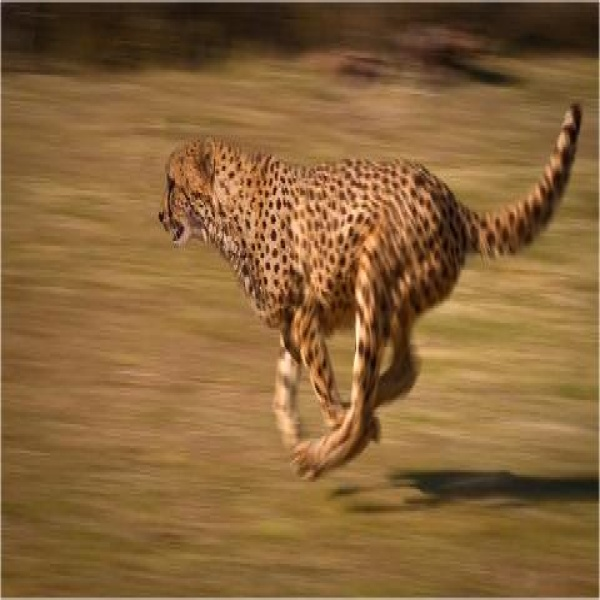Cheetah: (157, 102, 588, 484)
